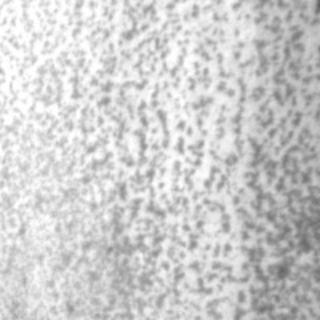pitted_surface: (0, 0, 312, 318)
